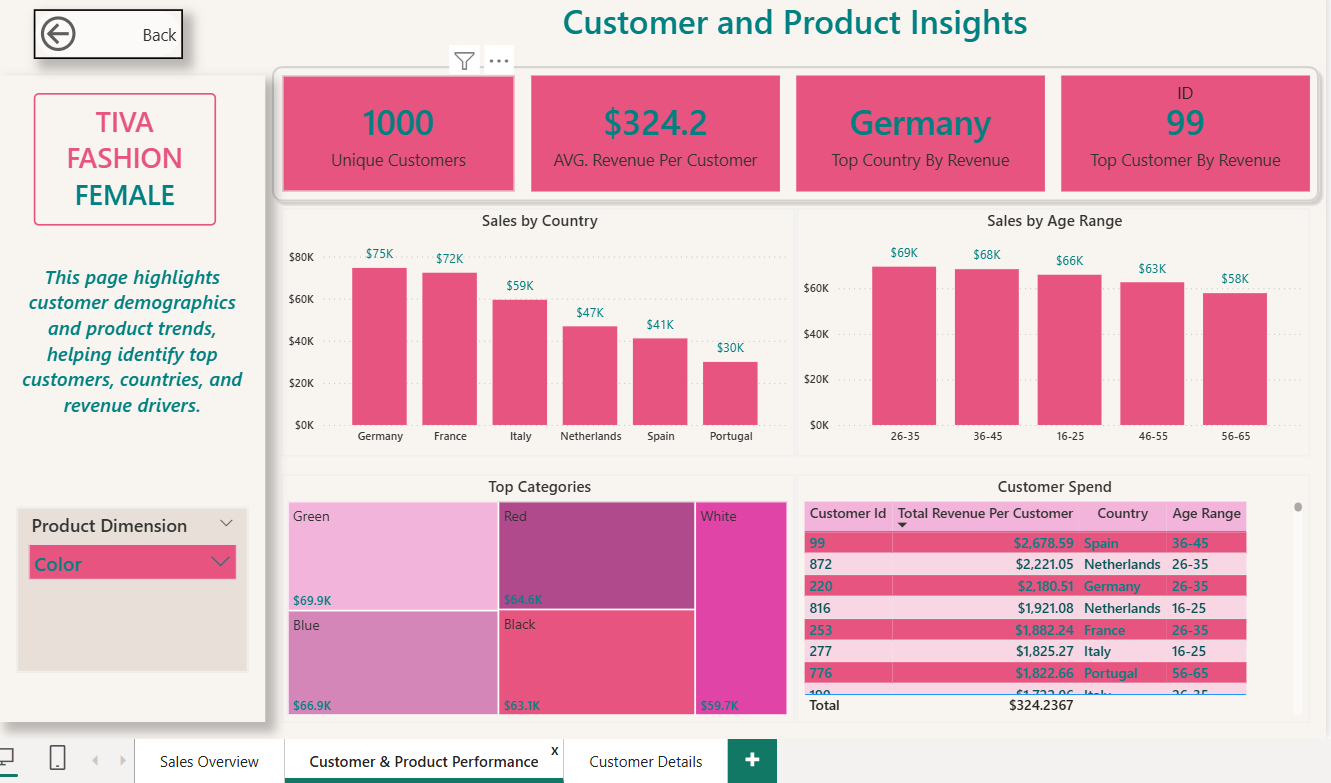

This screenshot's page, from the dashboard's own definition file:
{"tool":"powerbi","page":{"name":"Customer & Product Performance","canvas":[1280,720],"ordinal":1},"visuals":[{"type":"textbox","box":[272,0,992,64],"z":2000},{"type":"shape","box":[256,64,1024,144],"z":3000},{"type":"card","fields":{"Values":["Customers.Unique Customers"]},"box":[272.5,80.1,224,112],"z":4000},{"type":"card","fields":{"Values":["Sales Items.AVG. Revenue Per Customer"]},"box":[512.5,80.1,240,112],"z":5000},{"type":"card","fields":{"Values":["Sales Items.Top Country By Revenue"]},"box":[768.5,80.1,240,112],"z":6000},{"type":"card","fields":{"Values":["Customers.Top Customer By Revenue"]},"box":[1024.5,80.1,240,112],"z":7000},{"type":"textbox","box":[1104,80,80,32],"z":8000},{"type":"clusteredColumnChart","title":"Sales by Country","fields":{"Category":["Sales.Country"],"Y":["Sales Items.Total Revenue"]},"box":[272,208,496,240],"z":9000},{"type":"columnChart","title":"Sales by Age Range","fields":{"Y":["Sales Items.Total Revenue"],"Category":["Customers.Age Range"]},"box":[768,208,496,240],"z":10000},{"type":"treemap","title":"Top Categories","fields":{"Group":["Products.Color"],"Values":["Sales Items.Total Revenue"]},"box":[272,464,496,240],"z":11000},{"type":"tableEx","title":"Customer Spend","fields":{"Values":["Customers.Customer Id","Sales Items.Total Revenue Per Customer","Customers.Country","Customers.Age Range"]},"box":[768,464,496,240],"z":12000},{"type":"shape","box":[0,80,256,624],"z":14000},{"type":"textbox","box":[32,96,176,128],"z":15500},{"type":"textbox","box":[16,256,224,176],"z":16000},{"type":"slicer","fields":{"Values":["Parameter.Parameter"]},"box":[16,496,224,160],"z":16500},{"type":"actionButton","box":[32,16,144,48],"z":17000}]}

Visuals, with their boxes on the page's 1280x720 design canvas (x1, y1, x2, y2). These are canvas units, not pixel positions in the 1331x783 screenshot, which may show the page scaled, cropped or inside an application window:
textbox: <bbox>272, 0, 1264, 64</bbox>
shape: <bbox>256, 64, 1280, 208</bbox>
card - Customers.Unique Customers: <bbox>272, 80, 496, 192</bbox>
card - Sales Items.AVG. Revenue Per Customer: <bbox>512, 80, 752, 192</bbox>
card - Sales Items.Top Country By Revenue: <bbox>768, 80, 1008, 192</bbox>
card - Customers.Top Customer By Revenue: <bbox>1024, 80, 1264, 192</bbox>
textbox: <bbox>1104, 80, 1184, 112</bbox>
"Sales by Country" clusteredColumnChart: <bbox>272, 208, 768, 448</bbox>
"Sales by Age Range" columnChart: <bbox>768, 208, 1264, 448</bbox>
"Top Categories" treemap: <bbox>272, 464, 768, 704</bbox>
"Customer Spend" tableEx: <bbox>768, 464, 1264, 704</bbox>
shape: <bbox>0, 80, 256, 704</bbox>
textbox: <bbox>32, 96, 208, 224</bbox>
textbox: <bbox>16, 256, 240, 432</bbox>
slicer - Parameter.Parameter: <bbox>16, 496, 240, 656</bbox>
actionButton: <bbox>32, 16, 176, 64</bbox>
